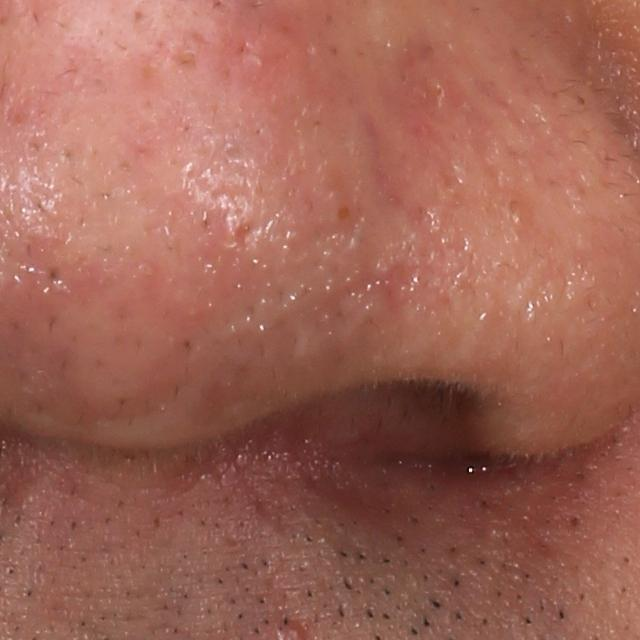comedo: (566, 511, 588, 531)
